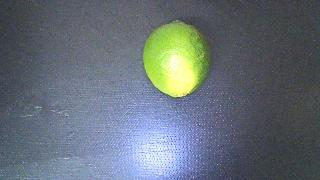EXPORTACION: (143, 20, 211, 98)
